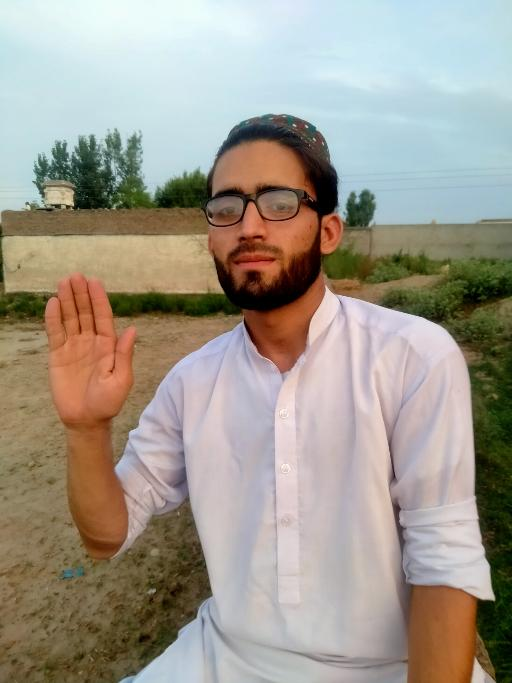stop: (41, 269, 137, 426)
